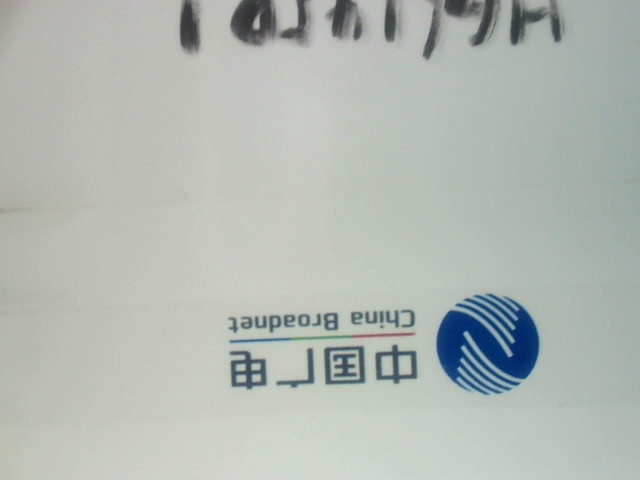AW_ChinaBroadNet: (220, 285, 563, 401)
